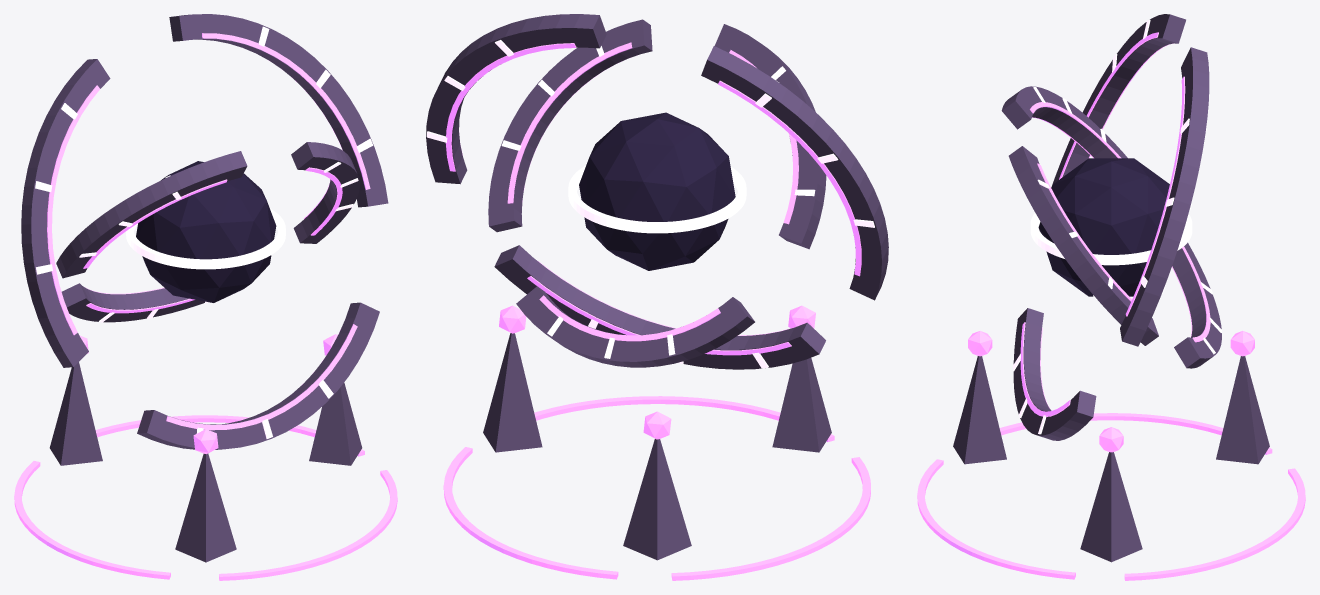
The model's file is gravity_anchor.glb.
3 renders of one model, left to right at view 1: azimuth 30°, elevation 25°; view 2: azimuth 150°, elevation 25°; view 3: azimuth 270°, elevation 25°, orthographic. The views are drawn at different scales.
Parts seen in each view (by area): view 1: RotorOuterMesh, RotorInnerMesh, CoreMesh, ShardCrownMesh, FootprintMesh; view 2: RotorOuterMesh, RotorInnerMesh, CoreMesh, ShardCrownMesh, FootprintMesh; view 3: RotorOuterMesh, RotorInnerMesh, ShardCrownMesh, CoreMesh, FootprintMesh.
Part boxes in pixels (<box>): RotorOuterMesh: <box>21,14,388,449</box>; RotorInnerMesh: <box>56,142,359,322</box>; CoreMesh: <box>126,161,285,302</box>; ShardCrownMesh: <box>49,334,362,562</box>; FootprintMesh: <box>14,415,397,580</box>; RotorOuterMesh: <box>426,14,888,369</box>; RotorInnerMesh: <box>488,19,826,367</box>; CoreMesh: <box>568,112,746,270</box>; ShardCrownMesh: <box>483,305,831,560</box>; FootprintMesh: <box>443,396,870,580</box>; RotorOuterMesh: <box>1013,14,1209,440</box>; RotorInnerMesh: <box>1001,86,1222,368</box>; ShardCrownMesh: <box>953,331,1269,562</box>; CoreMesh: <box>1030,158,1192,296</box>; FootprintMesh: <box>917,413,1305,580</box>.
Bounding box in the file's own units: 1.48 × 1.7 × 1.3.
